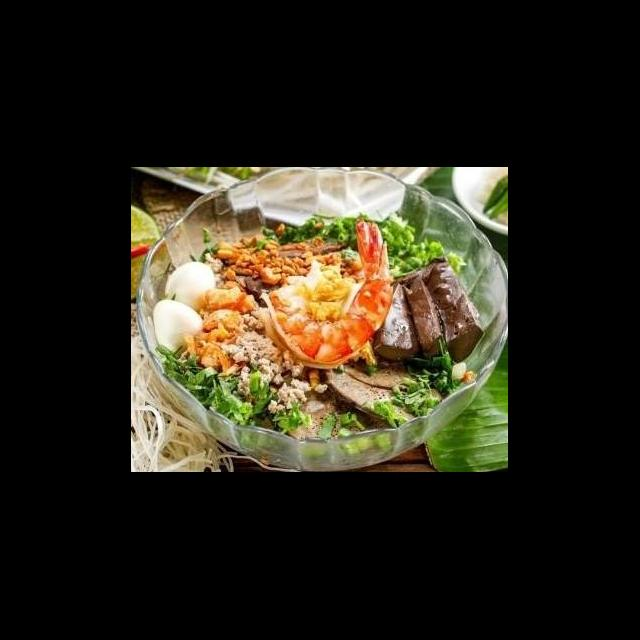gan: (272, 380, 393, 450), (322, 364, 422, 428)
thit bam: (200, 294, 330, 416)
tom: (262, 218, 396, 372)
trung: (150, 296, 212, 358), (162, 260, 220, 314)
